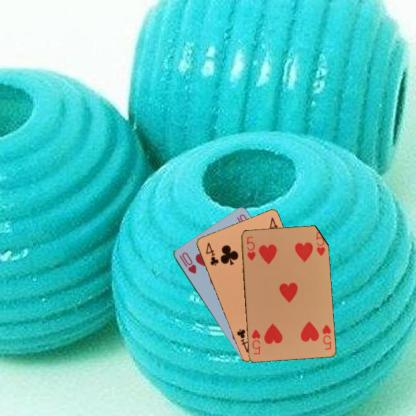10h: (176, 250, 198, 275)
4c: (203, 240, 220, 267)
5h: (318, 322, 332, 351), (244, 234, 256, 262)
